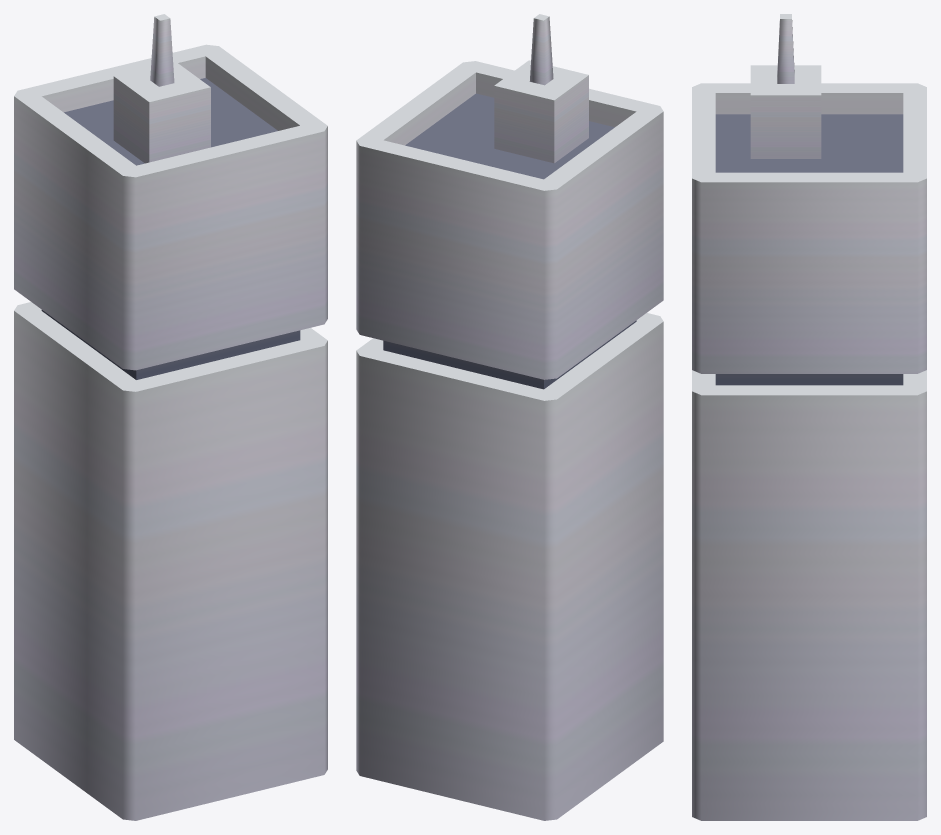
The model's file is low-detail-building-d.glb.
3 renders of one model, left to right at view 1: azimuth 30°, elevation 25°; view 2: azimuth 150°, elevation 25°; view 3: azimuth 270°, elevation 25°, orthographic. The views are drawn at different scales.
Parts seen in each view (by area): view 1: low-detail-building-d; view 2: low-detail-building-d; view 3: low-detail-building-d.
Boxes of the visible parts, box(x1,y1,x2,y2) form: low-detail-building-d: box(14, 14, 327, 820); low-detail-building-d: box(356, 14, 663, 820); low-detail-building-d: box(692, 14, 926, 820).
Bounding box in the file's own units: 0.5 × 1.75 × 0.5.
1 material, 1 textured.
